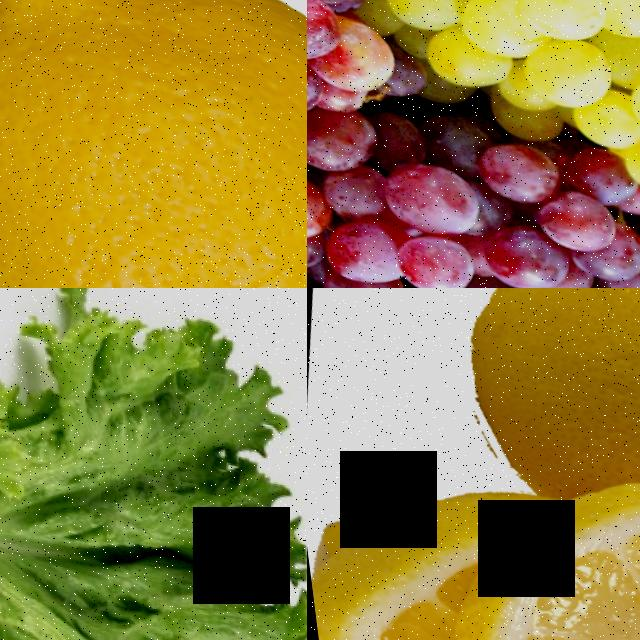grapes: (307, 79, 640, 288), (336, 0, 640, 174)
lemon: (0, 0, 307, 288), (416, 288, 640, 532), (431, 456, 640, 640), (307, 459, 503, 640)
lettuce: (0, 288, 307, 640)
